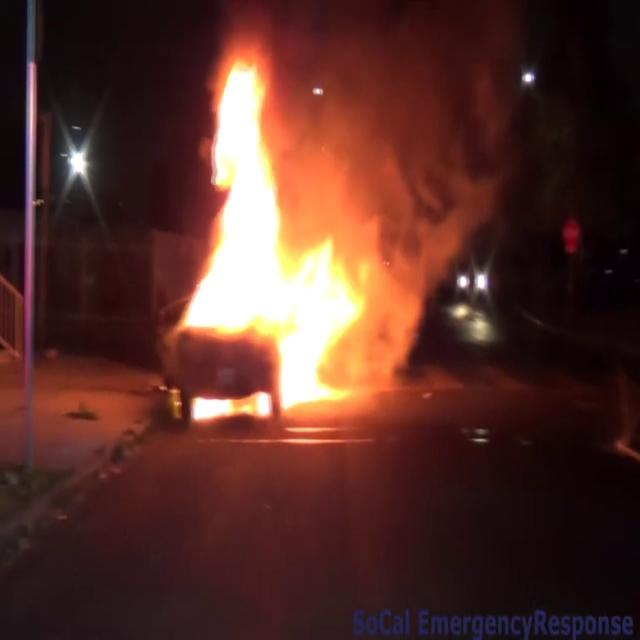Fire: (168, 43, 377, 421)
Smoke: (294, 0, 532, 264)
